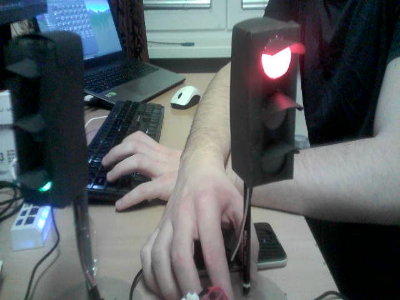trafficlight_green: (14, 44, 62, 197)
trafficlight_red: (251, 31, 296, 181)
